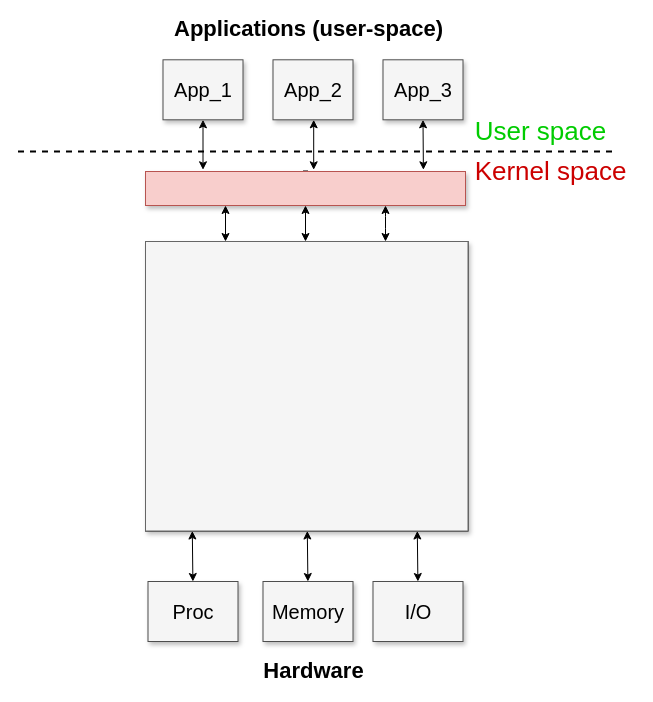
Some shapes in this 653 by 702 pixel diagram are drawn without their labels. Each missing label, with the centre of its shape:
"OS" belongs at (x=307, y=387).
"System Calls" belongs at (x=306, y=189).
